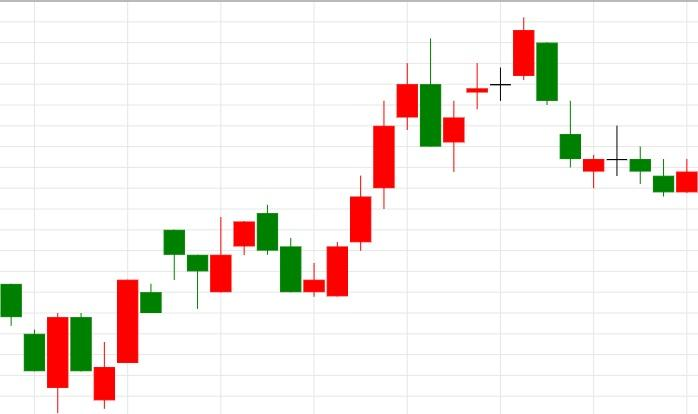bearish_engulfing_fall: (302, 38, 442, 297), (186, 205, 279, 308)
